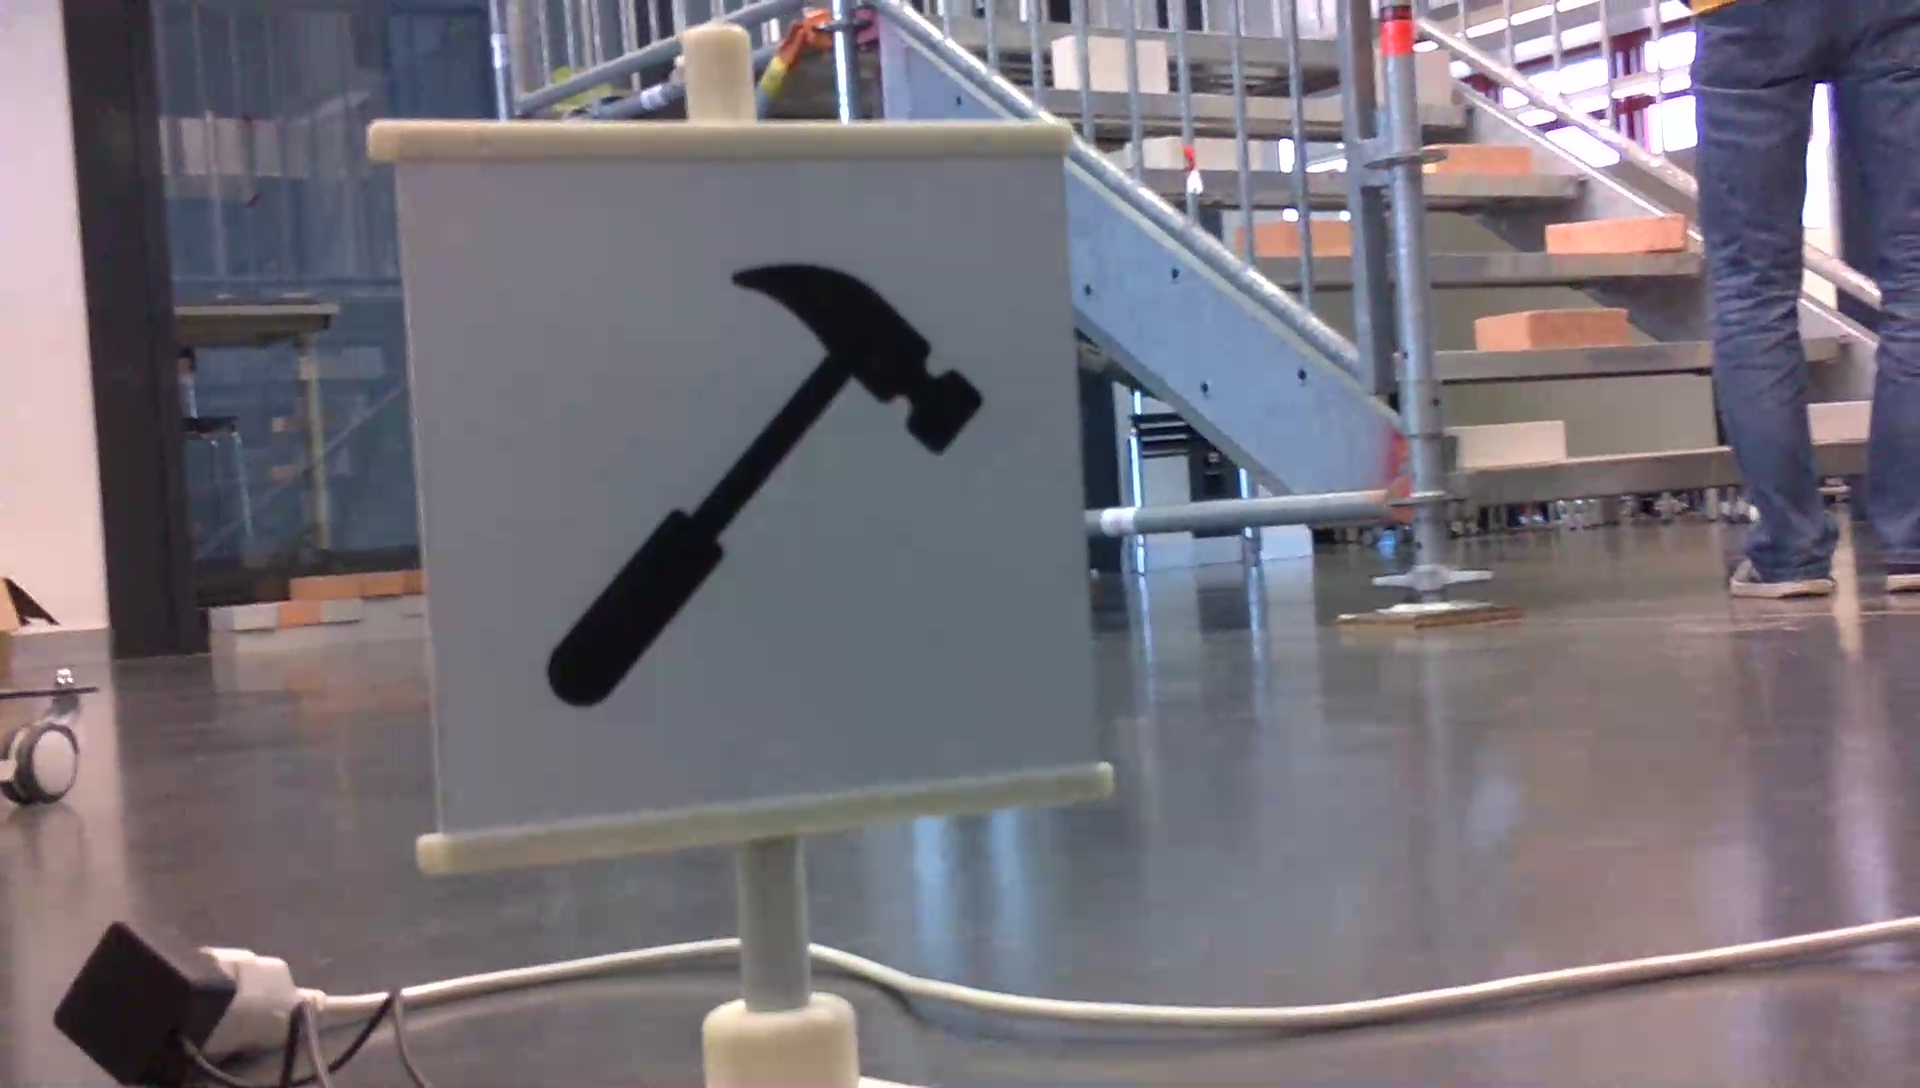brick: (1451, 422, 1563, 463), (1808, 398, 1870, 440)
hammer: (535, 256, 997, 711)
